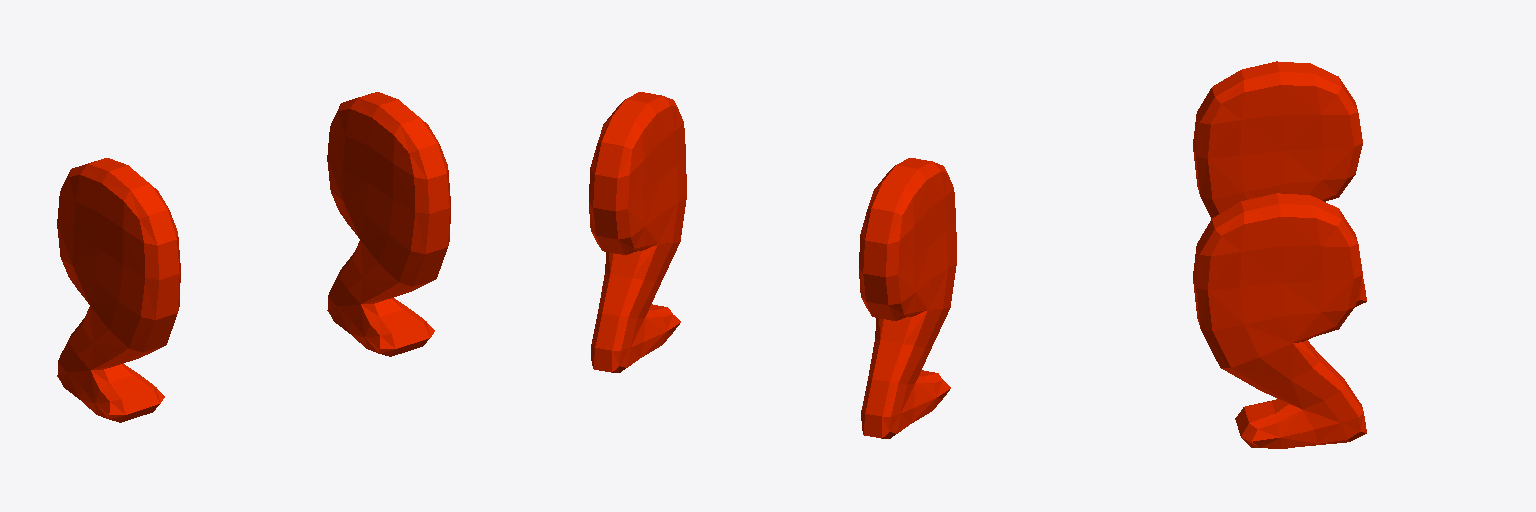
Rendered from squirrel_backlegs.obj.
The picture shows the model from 3 angles: view 1: azimuth 30°, elevation 25°; view 2: azimuth 150°, elevation 25°; view 3: azimuth 270°, elevation 25°; orthographic projection.
Visible parts, largest first — view 1: Cube.004, Cube.003; view 2: Cube.003, Cube.004; view 3: Cube.003, Cube.004.
Part boxes in pixels (bbox=[...]): Cube.004: bbox=[57, 158, 180, 422]; Cube.003: bbox=[327, 92, 450, 356]; Cube.003: bbox=[589, 92, 686, 372]; Cube.004: bbox=[859, 158, 956, 438]; Cube.003: bbox=[1193, 193, 1366, 448]; Cube.004: bbox=[1193, 61, 1366, 306].
Size of the model in its own units: 2.31 by 1.63 by 1.06.